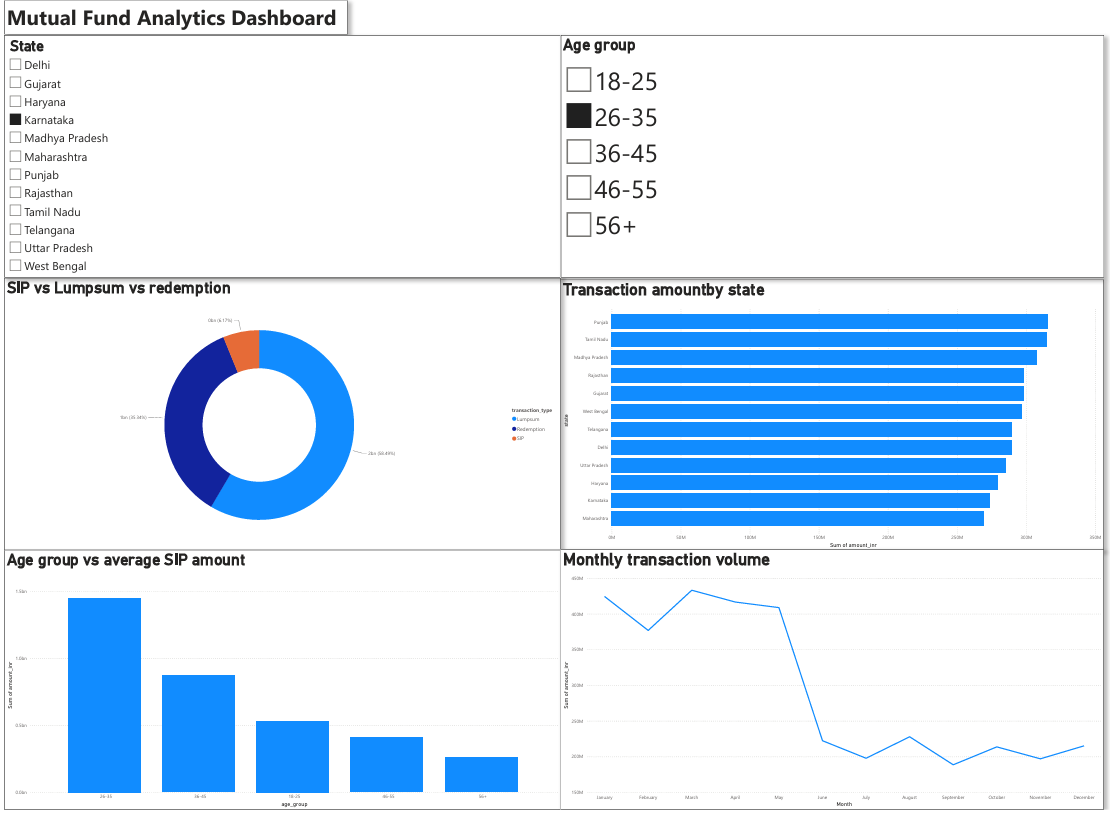

The page's visual inventory and layout, read from the dashboard file:
{"tool":"powerbi","page":{"name":"Investor Analytics","canvas":[3840,2160],"ordinal":2},"visuals":[{"type":"clusteredBarChart","title":"Transaction amountby state","fields":{"Category":["investor_transactions_cleaned.state"],"Y":["Sum(investor_transactions_cleaned.amount_inr)"]},"box":[1430,796.7,1396.7,696.7],"z":0},{"type":"donutChart","title":"SIP vs Lumpsum vs redemption","fields":{"Category":["investor_transactions_cleaned.transaction_type"],"Y":["Sum(investor_transactions_cleaned.amount_inr)"]},"box":[0,793.3,1430,700],"z":1000},{"type":"clusteredColumnChart","title":"Age group vs average SIP amount","fields":{"Category":["investor_transactions_cleaned.age_group"],"Y":["Sum(investor_transactions_cleaned.amount_inr)"]},"box":[0,1493.3,1430,666.7],"z":2000},{"type":"textbox","box":[0,80,883.3,86.7],"z":3000},{"type":"lineChart","title":"Monthly transaction volume","fields":{"Category":["investor_transactions_cleaned.transaction_date.Variation.Date Hierarchy.Month"],"Y":["Sum(investor_transactions_cleaned.amount_inr)"]},"box":[1430,1490,1396.7,670],"z":4000},{"type":"slicer","fields":{"Values":["08_investor_transactions.state"]},"box":[0,168.8,1430.7,623.6],"z":5000},{"type":"slicer","title":"Age group","fields":{"Values":["08_investor_transactions.age_group"]},"box":[1430.7,168.8,1397.7,623.6],"z":6000}]}

Visuals, with their boxes on the page's 3840x2160 design canvas (x1, y1, x2, y2). These are canvas units, not pixel positions in the 1110x815 screenshot, which may show the page scaled, cropped or inside an application window:
"Transaction amountby state" clusteredBarChart: [left=1430, top=797, right=2827, bottom=1493]
"SIP vs Lumpsum vs redemption" donutChart: [left=0, top=793, right=1430, bottom=1493]
"Age group vs average SIP amount" clusteredColumnChart: [left=0, top=1493, right=1430, bottom=2160]
textbox: [left=0, top=80, right=883, bottom=167]
"Monthly transaction volume" lineChart: [left=1430, top=1490, right=2827, bottom=2160]
slicer - 08_investor_transactions.state: [left=0, top=169, right=1431, bottom=792]
"Age group" slicer: [left=1431, top=169, right=2828, bottom=792]
